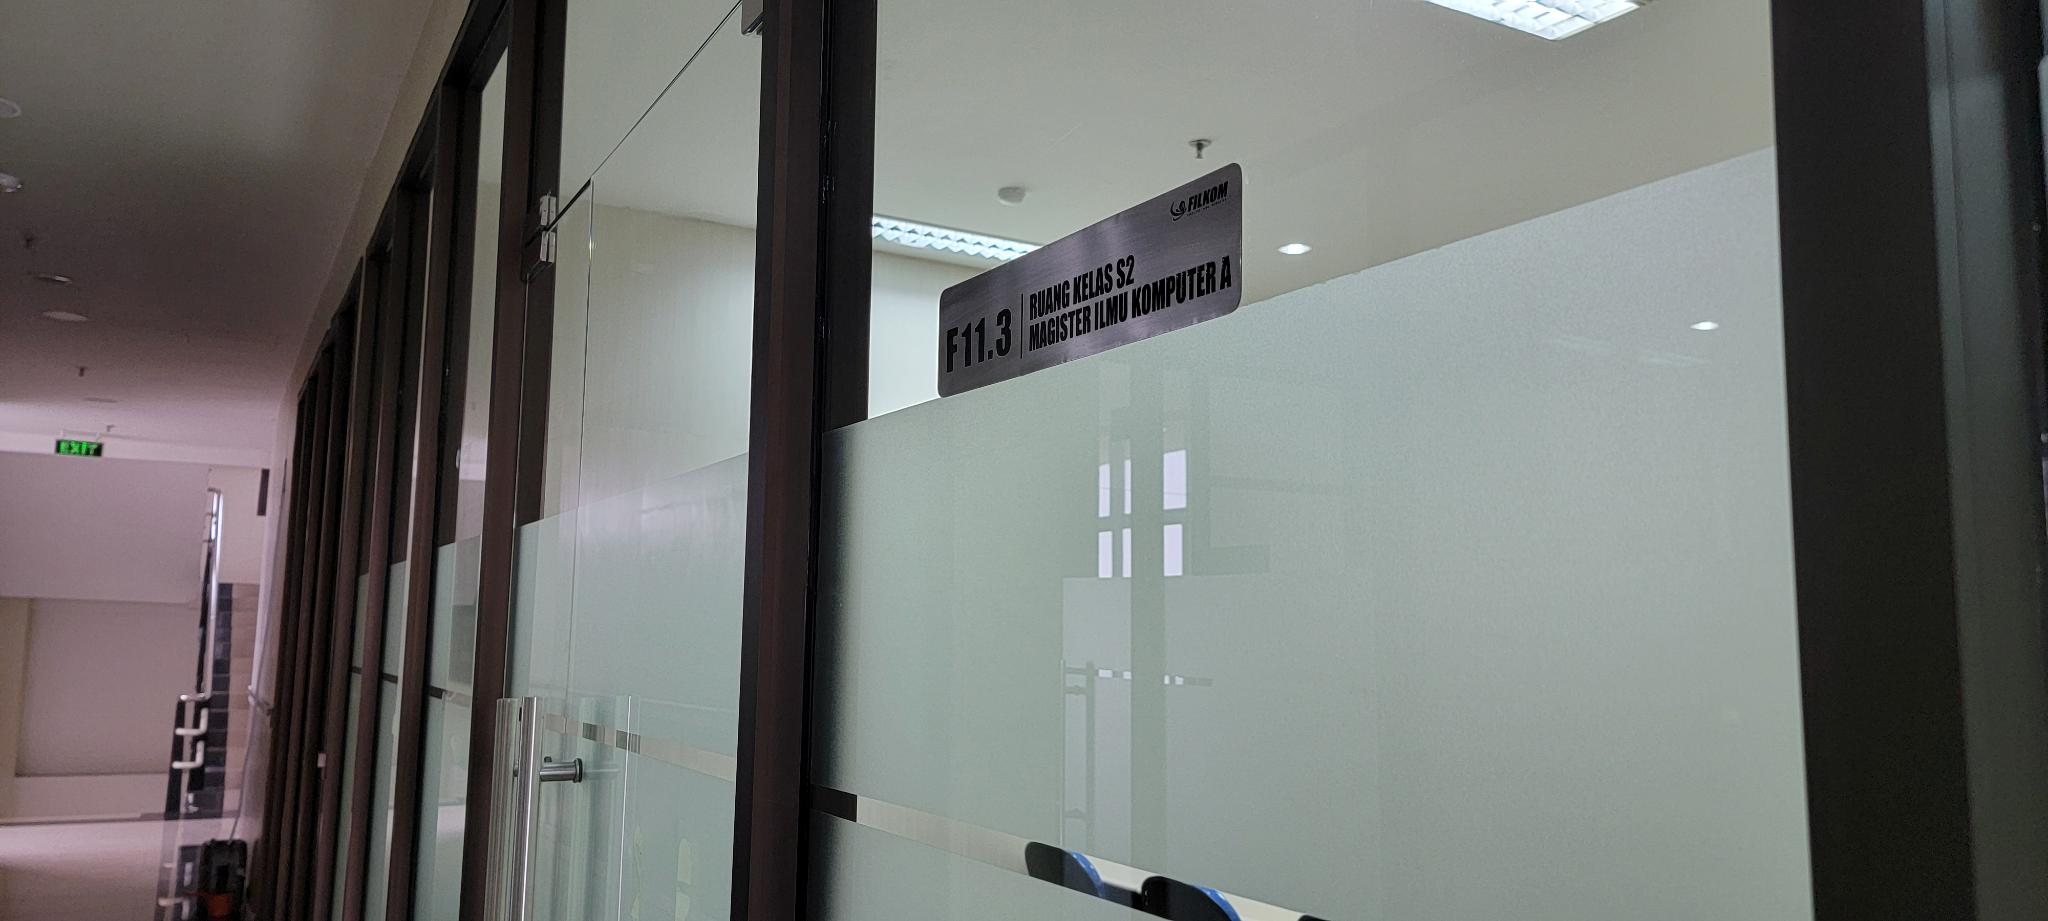plate: (939, 158, 1246, 396)
